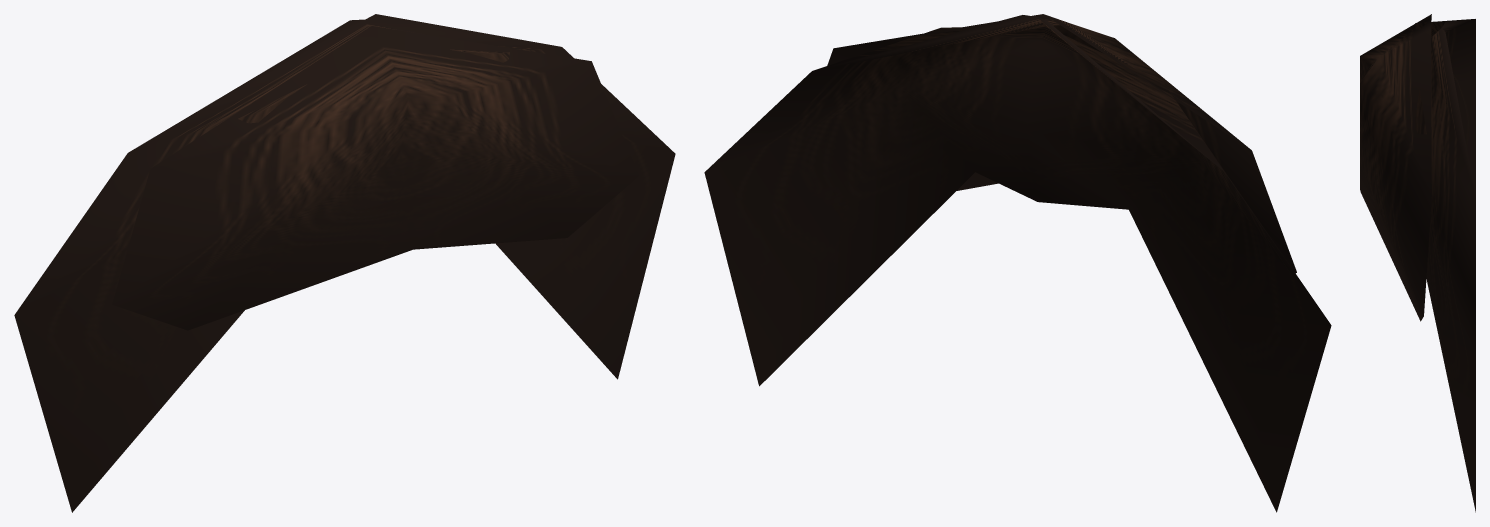
Rendered from Moustache.fbx.
The picture shows the model from 3 angles, left to right: view 1: azimuth 30°, elevation 25°; view 2: azimuth 150°, elevation 25°; view 3: azimuth 270°, elevation 25°; orthographic projection. The views are drawn at different scales.
Parts seen in each view (by area): view 1: Mustache; view 2: Mustache; view 3: Mustache.
Part boxes in pixels (x1,y1,x2,y2): Mustache: (14,14,675,512); Mustache: (704,14,1331,512); Mustache: (1360,14,1475,512).
Bounding box in the file's own units: 15.71 × 10.04 × 2.82.
